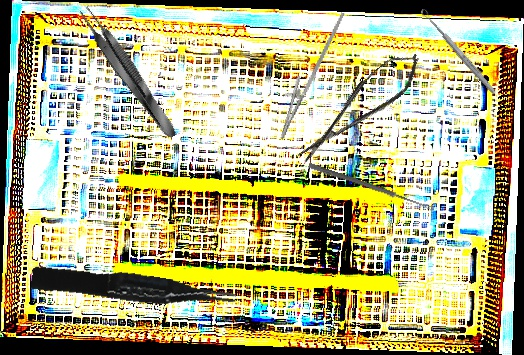Micro Scissor: (286, 44, 431, 170)
Needle Holder: (269, 3, 346, 145)
Surgical Spoon: (419, 7, 498, 96), (307, 162, 435, 212)
Tissue Forceps: (74, 2, 182, 144), (30, 257, 237, 321)
